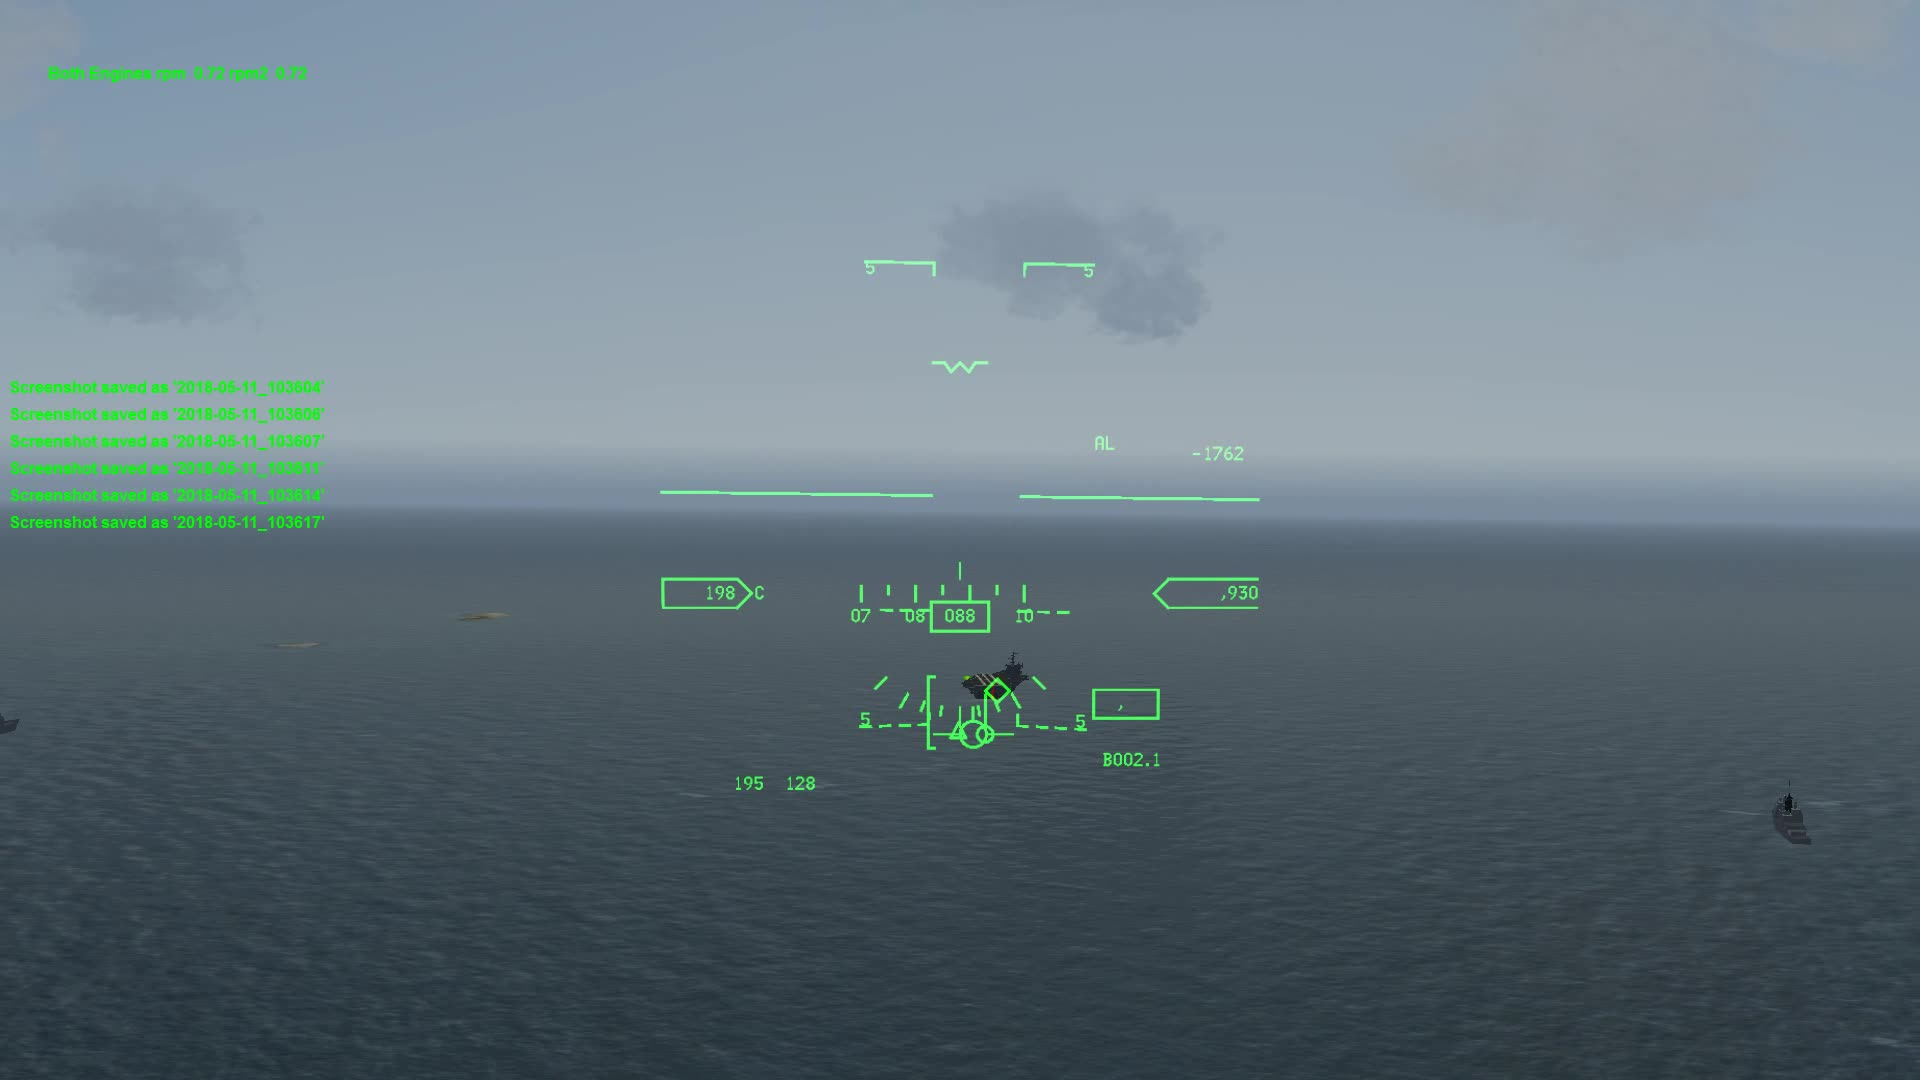speed vector: (932, 713, 1021, 752)
